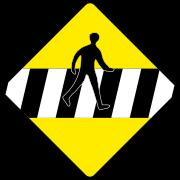Pedestrian Crossing: (7, 10, 176, 160)
